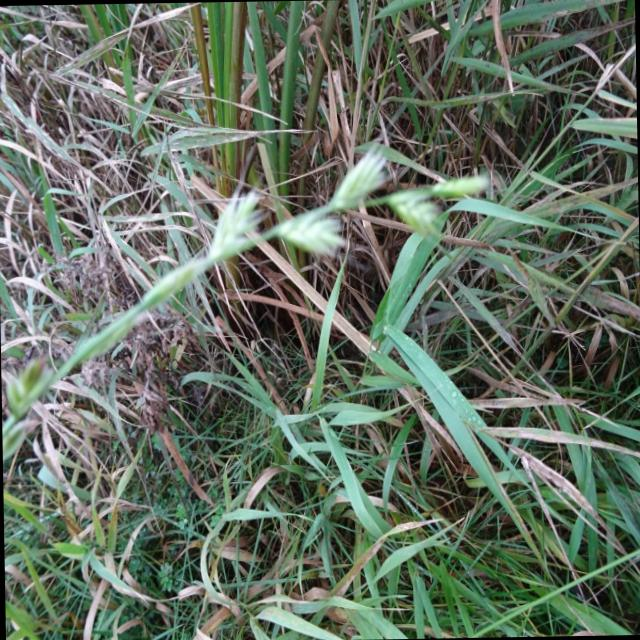Lolium: (0, 142, 488, 496)
